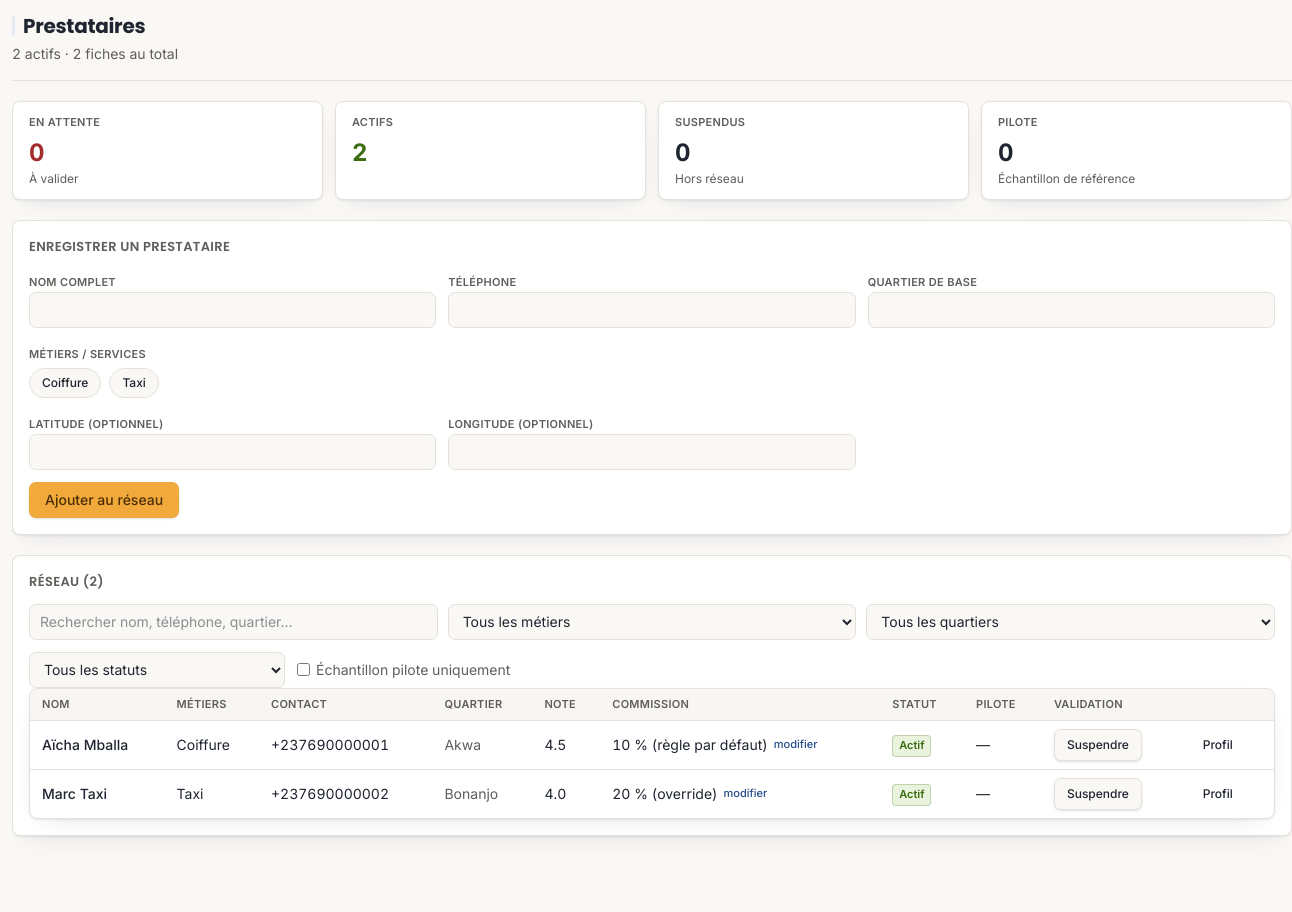
Test case: Prestataires — annuaire, onboarding, validation de statut, filtres › filtre par quartier
Expected: the text "Aïcha Mballa" is shown, [30, 721, 165, 770]
Step 1. Select "Bonanjo" in the 2nd dropdown → (1071, 622), box [866, 604, 1275, 640]
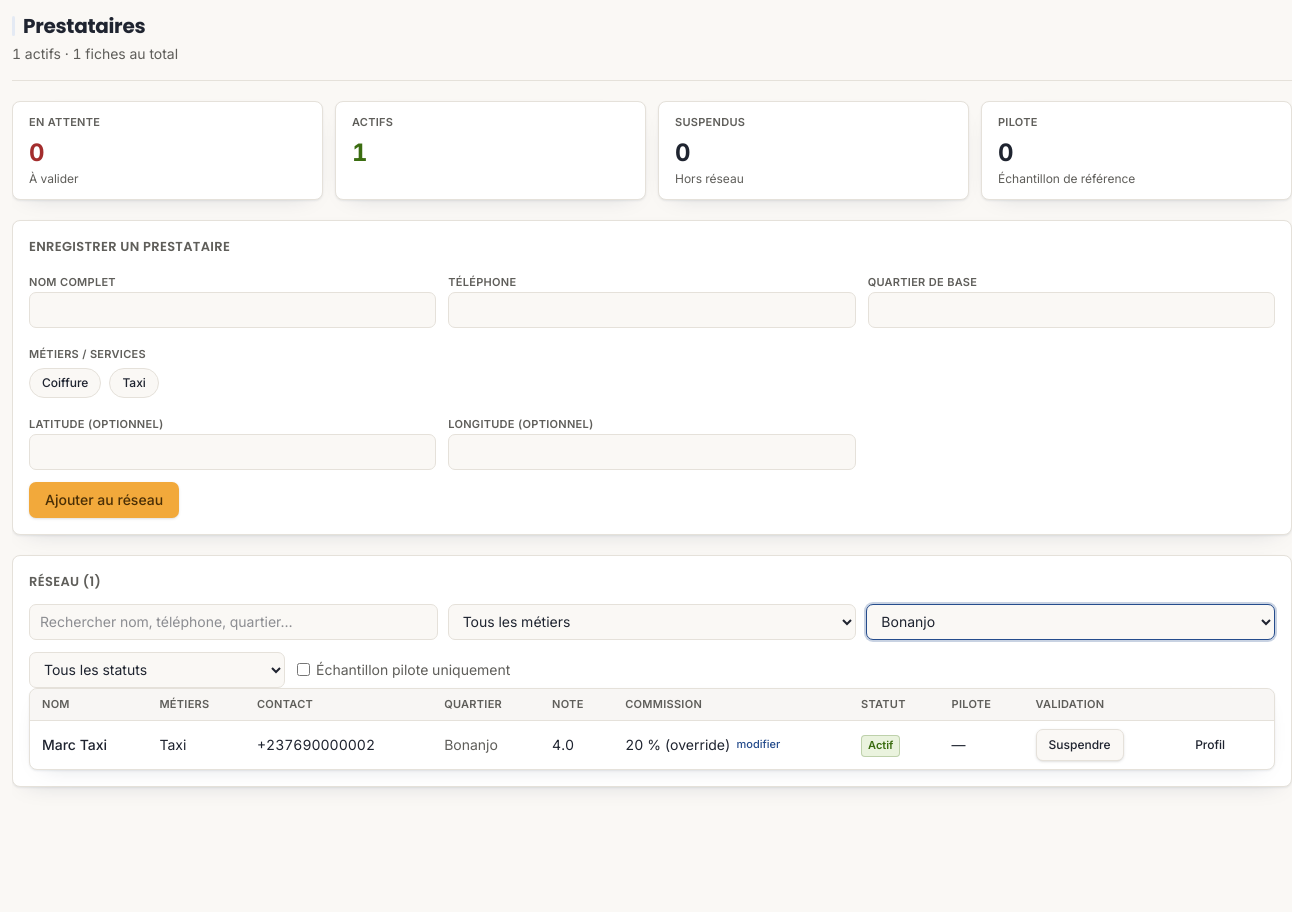
Expected: the text "Marc Taxi" is shown, [30, 721, 147, 769]
Expected: the text "Aïcha Mballa" is gone
